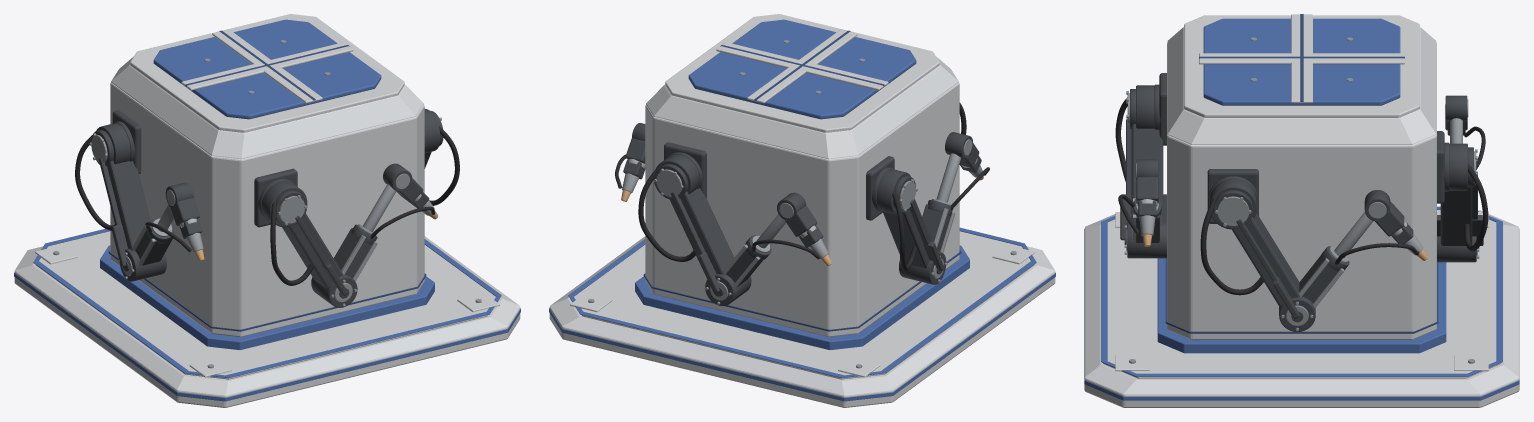
Rendered from RepairStation.fbx.
The picture shows the model from 3 angles, left to right: view 1: azimuth 30°, elevation 25°; view 2: azimuth 150°, elevation 25°; view 3: azimuth 270°, elevation 25°; orthographic projection. The views are drawn at different scales.
Visible parts, largest first — view 1: Housing, Base, UpperArm_Left, Forearm_Front, UpperArm_Front, Forearm_Left, ShoulderJoint_Front, Torch_Left, ShoulderJoint_Left, ShoulderMount_Front, Torch_Front, ElbowJoint_Left (+6 smaller); view 2: Housing, Base, UpperArm_Back, Forearm_Left, UpperArm_Left, Forearm_Back, ShoulderJoint_Back, Torch_Back, ShoulderJoint_Left, Torch_Right, ShoulderMount_Left, ElbowJoint_Back (+5 smaller); view 3: Housing, Base, UpperArm_Right, Forearm_Right, UpperArm_Front, UpperArm_Back, ShoulderJoint_Right, Torch_Front, Torch_Right, ShoulderJoint_Back, ShoulderJoint_Front, ElbowJoint_Front (+12 smaller).
Boxes of the visible parts, x1,y1,x2,y2 form: Housing: (100, 14, 434, 349); Base: (14, 228, 520, 407); UpperArm_Left: (99, 158, 150, 266); Forearm_Front: (333, 164, 409, 281); UpperArm_Front: (282, 213, 347, 295); Forearm_Left: (132, 183, 191, 265); ShoulderJoint_Front: (261, 181, 307, 227); Torch_Left: (165, 182, 204, 261); ShoulderJoint_Left: (89, 123, 130, 166); ShoulderMount_Front: (254, 168, 297, 227); Torch_Front: (383, 163, 438, 219); ElbowJoint_Left: (118, 248, 166, 281); Housing: (635, 14, 969, 349); Base: (549, 227, 1055, 407); UpperArm_Back: (669, 188, 734, 293); Forearm_Left: (922, 132, 972, 252); UpperArm_Left: (883, 199, 944, 271); Forearm_Back: (723, 193, 804, 287); ShoulderJoint_Back: (654, 154, 699, 199); Torch_Back: (777, 192, 831, 266); ShoulderJoint_Left: (876, 169, 917, 214); Torch_Right: (621, 123, 645, 201); ShoulderMount_Left: (866, 156, 894, 220); ElbowJoint_Back: (705, 274, 751, 305); Housing: (1157, 14, 1446, 353); Base: (1084, 206, 1519, 407); UpperArm_Right: (1231, 213, 1300, 318); Forearm_Right: (1299, 190, 1390, 307); UpperArm_Front: (1120, 119, 1166, 240); UpperArm_Back: (1437, 171, 1483, 245); ShoulderJoint_Right: (1209, 179, 1256, 229); Torch_Front: (1136, 159, 1158, 246); Torch_Right: (1364, 190, 1428, 260); ShoulderJoint_Back: (1449, 143, 1477, 190); ShoulderJoint_Front: (1126, 85, 1154, 128); ElbowJoint_Front: (1124, 222, 1166, 258).
Bounding box in the file's own units: 1.9 × 1.25 × 1.9.
